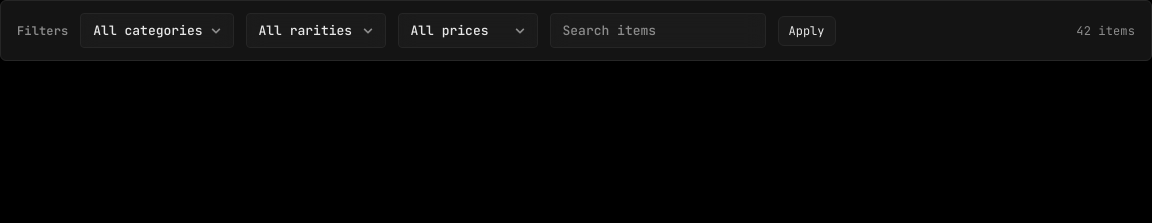
PortfolioFilters › renders category options correctly
The image size is (1152, 223).
Expected: the text "All categories" is shown, [93, 22, 202, 39]
Step 1. Click the button "All categories" → coordinates (157, 30), box [80, 13, 234, 48]
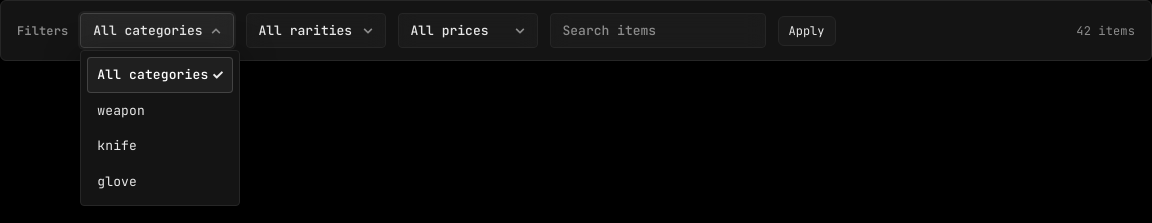
Result: the text "weapon" is shown at [97, 100, 145, 120]
Result: the text "knife" is shown at [97, 136, 137, 156]
